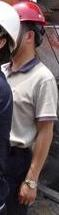hard-hat: (0, 0, 30, 51)
